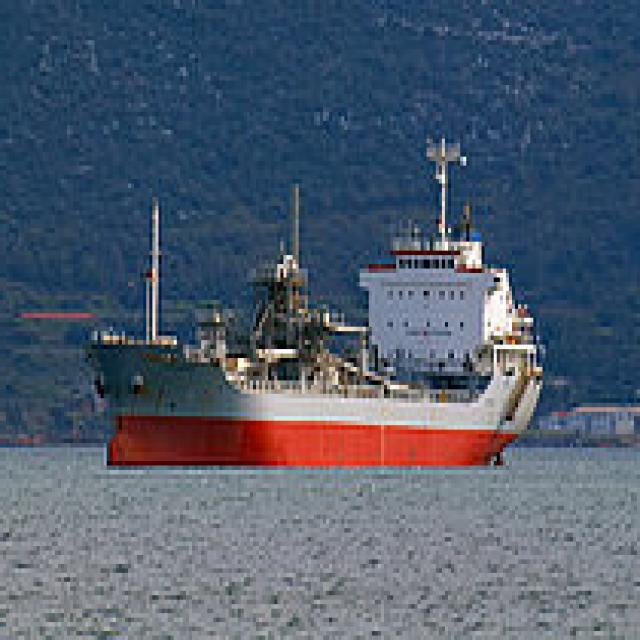Cargo: (91, 121, 552, 465)
